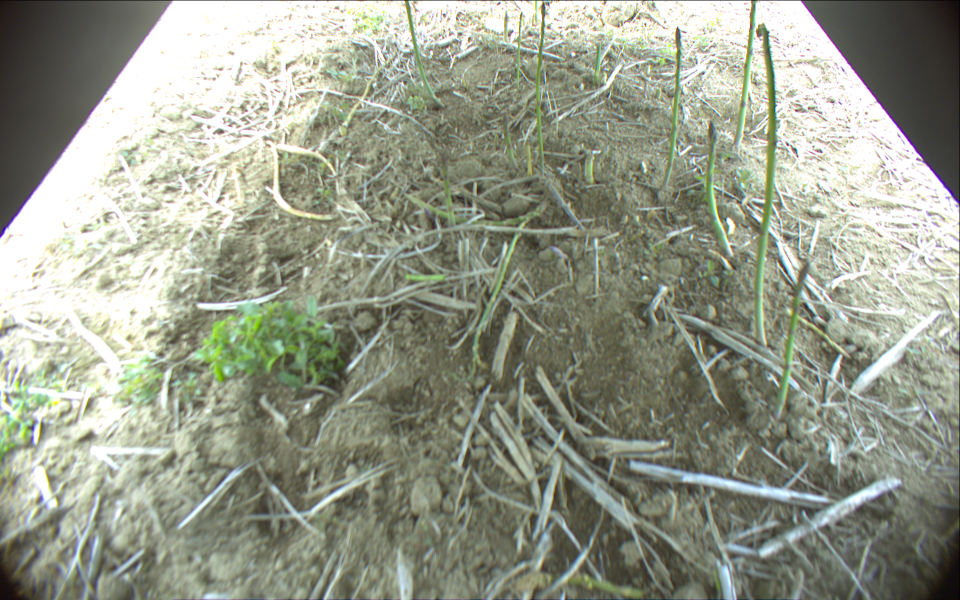aspa: (468, 209, 542, 368), (775, 263, 808, 411), (403, 1, 446, 109), (754, 24, 768, 345), (410, 193, 543, 225), (707, 122, 734, 256), (785, 306, 852, 360), (659, 27, 681, 188), (734, 1, 757, 145), (537, 2, 547, 179), (439, 150, 460, 233), (502, 109, 521, 169), (517, 9, 525, 85), (584, 153, 597, 182), (596, 42, 601, 81), (503, 13, 509, 40), (531, 1, 539, 21)
